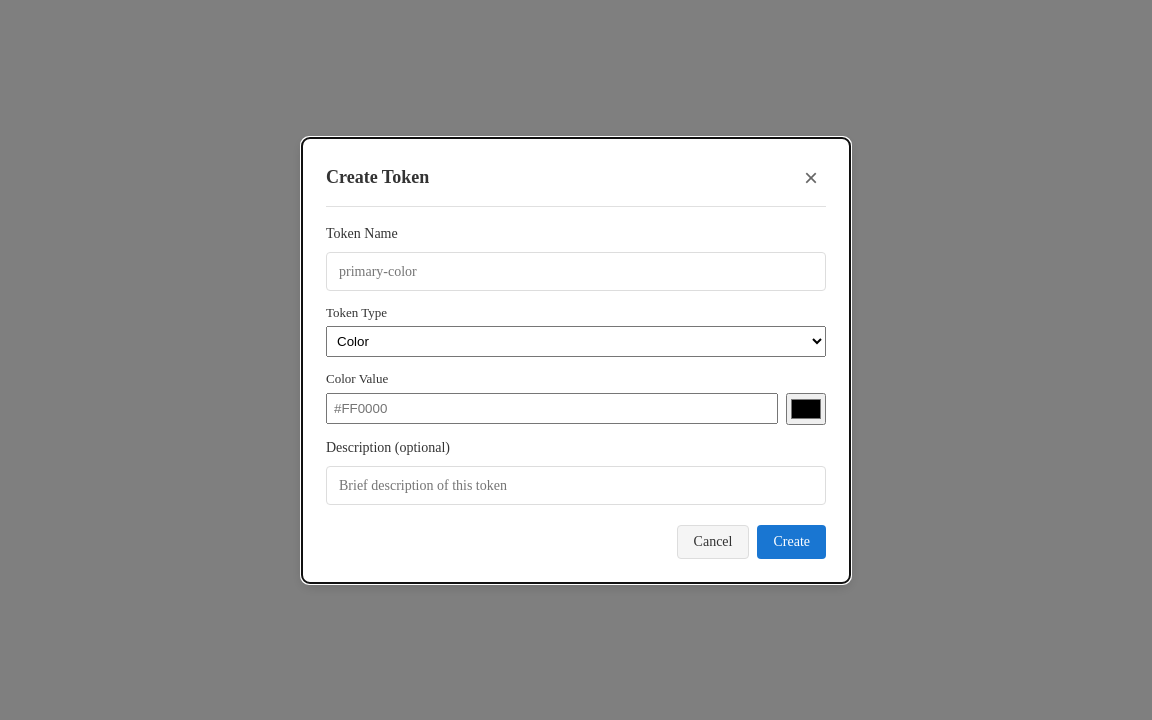
Test: TokenEditor › Color Picker Integration › updates text input when color picker changes
In the colour field named "Color picker": coordinates (806, 408) [786,392,826,424], type "#00FF00"
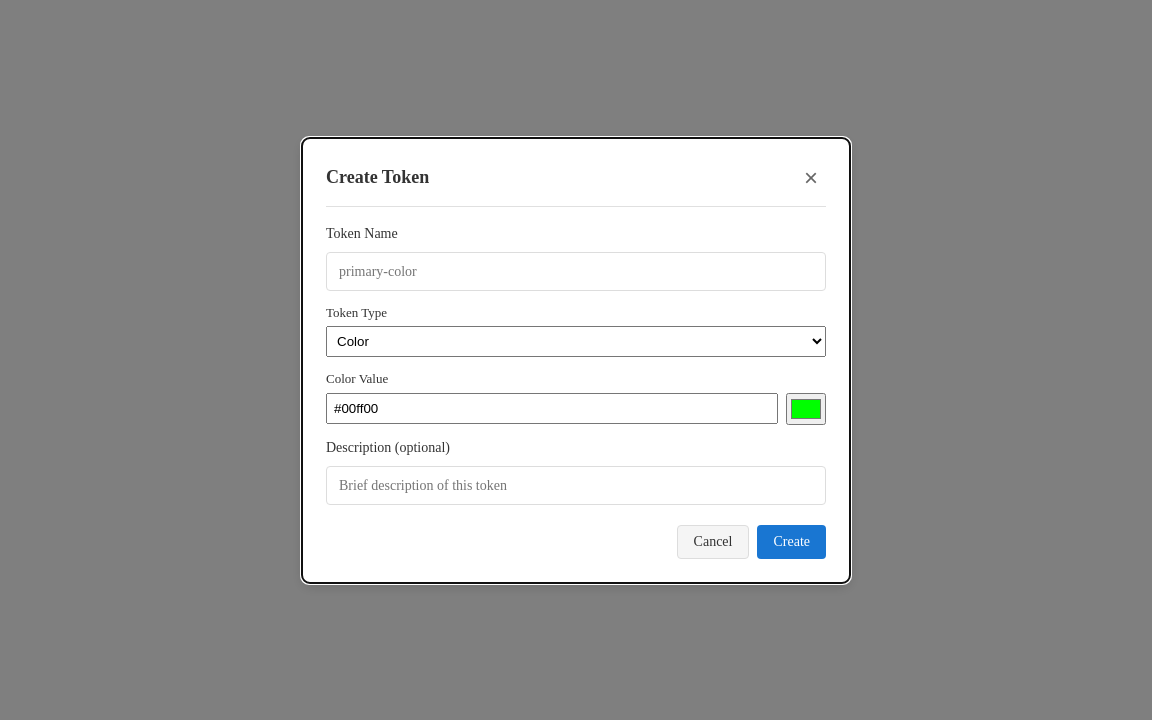
Result: the field named "Color value text" holds "#00ff00" at [326,393,778,424]
